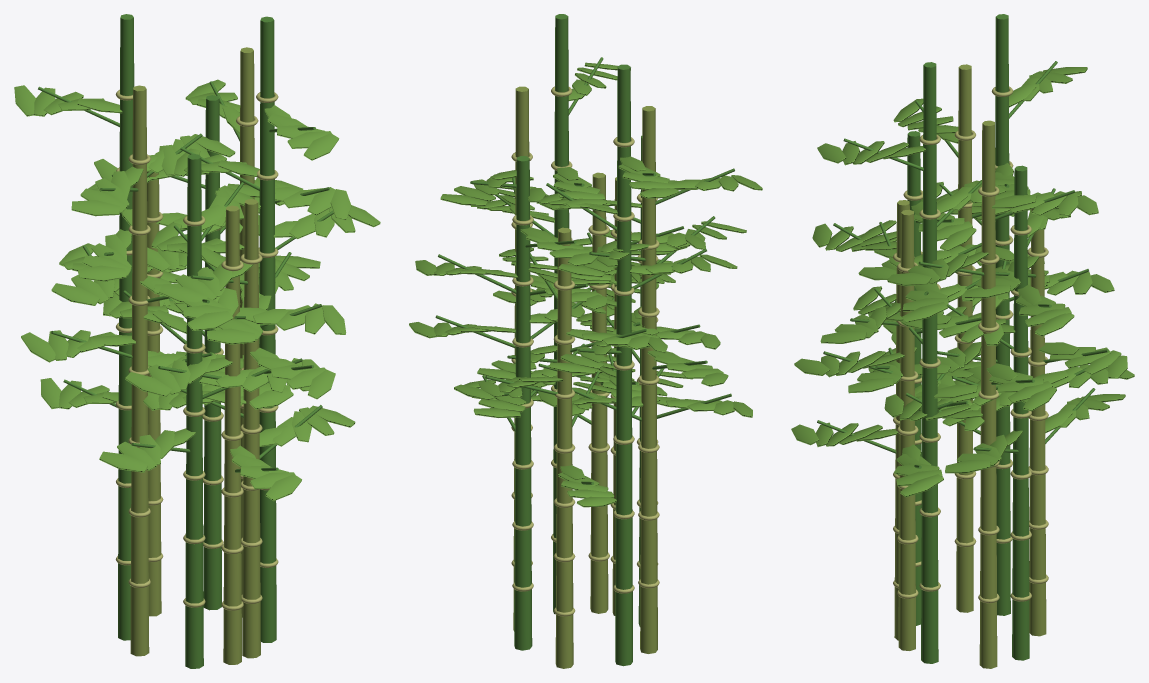
Rendered from LV_CAY_TRE_01.glb.
The picture shows the model from 3 angles, left to right: view 1: azimuth 30°, elevation 25°; view 2: azimuth 150°, elevation 25°; view 3: azimuth 270°, elevation 25°; orthographic projection. The views are drawn at different scales.
Parts seen in each view (by area): view 1: bamboo-canopy-surface-6b9c41, LV_CAY_TRE_01-surface-53873a, LV_CAY_TRE_01-surface-8a9e4d, LV_CAY_TRE_01-surface-adb16b, bamboo-canopy-surface-53873a; view 2: bamboo-canopy-surface-6b9c41, LV_CAY_TRE_01-surface-8a9e4d, LV_CAY_TRE_01-surface-53873a, bamboo-canopy-surface-53873a, LV_CAY_TRE_01-surface-adb16b; view 3: bamboo-canopy-surface-6b9c41, LV_CAY_TRE_01-surface-8a9e4d, LV_CAY_TRE_01-surface-53873a, LV_CAY_TRE_01-surface-adb16b, bamboo-canopy-surface-53873a.
Part boxes in pixels (x1,y1,x2,y2): bamboo-canopy-surface-6b9c41: [14, 79, 380, 501]; LV_CAY_TRE_01-surface-53873a: [118, 14, 276, 668]; LV_CAY_TRE_01-surface-8a9e4d: [130, 47, 260, 664]; LV_CAY_TRE_01-surface-adb16b: [115, 89, 278, 610]; bamboo-canopy-surface-53873a: [38, 81, 333, 472]; bamboo-canopy-surface-6b9c41: [409, 62, 762, 507]; LV_CAY_TRE_01-surface-8a9e4d: [513, 86, 657, 668]; LV_CAY_TRE_01-surface-53873a: [514, 14, 642, 666]; bamboo-canopy-surface-53873a: [435, 57, 734, 484]; LV_CAY_TRE_01-surface-adb16b: [511, 86, 659, 616]; bamboo-canopy-surface-6b9c41: [791, 67, 1134, 497]; LV_CAY_TRE_01-surface-8a9e4d: [894, 64, 1046, 668]; LV_CAY_TRE_01-surface-53873a: [907, 14, 1029, 663]; LV_CAY_TRE_01-surface-adb16b: [893, 86, 1048, 603]; bamboo-canopy-surface-53873a: [817, 61, 1108, 468].
Size of the model in its own units: 2.79 by 5.34 by 2.79.
